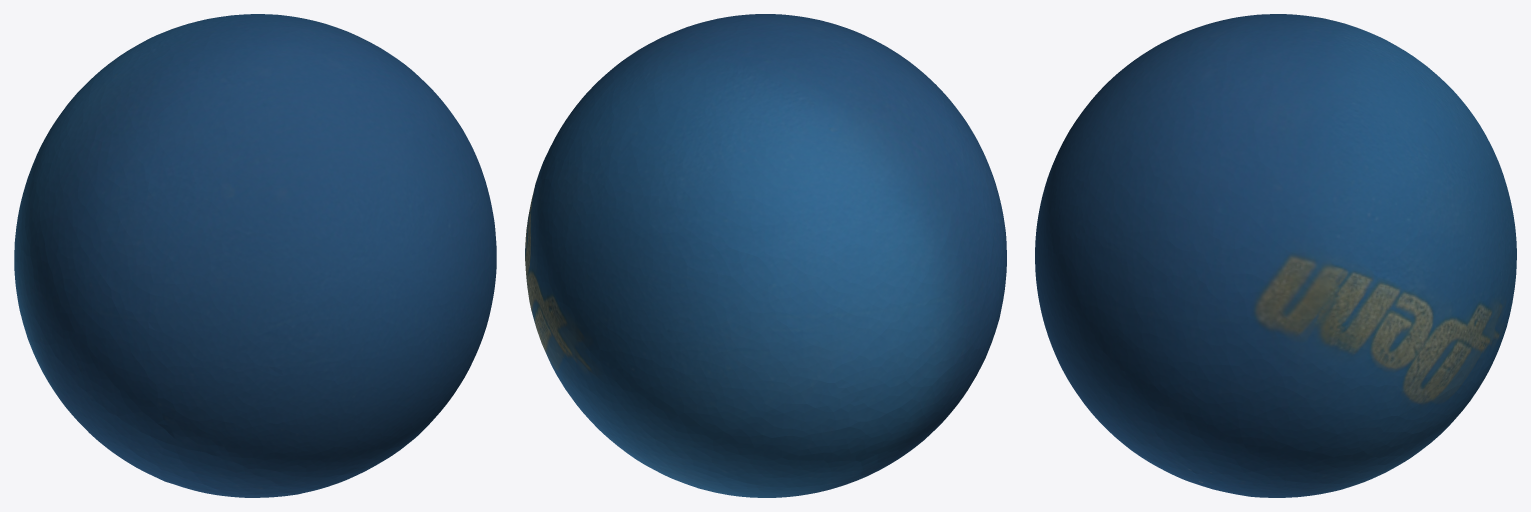
Rendered from racquetball.glb.
3 views of the same model, side by side, from view 1: azimuth 30°, elevation 25°; view 2: azimuth 150°, elevation 25°; view 3: azimuth 270°, elevation 25° (orthographic).
Parts seen in each view (by area): view 1: textured.obj; view 2: textured.obj; view 3: textured.obj.
Boxes of the visible parts, x1=… form: textured.obj: x1=14, y1=14, x2=496, y2=497; textured.obj: x1=525, y1=14, x2=1006, y2=497; textured.obj: x1=1035, y1=14, x2=1516, y2=497.
Bounding box in the file's own units: 0.0557 × 0.0558 × 0.0556.
Materials: 1 (1 with a texture image).
